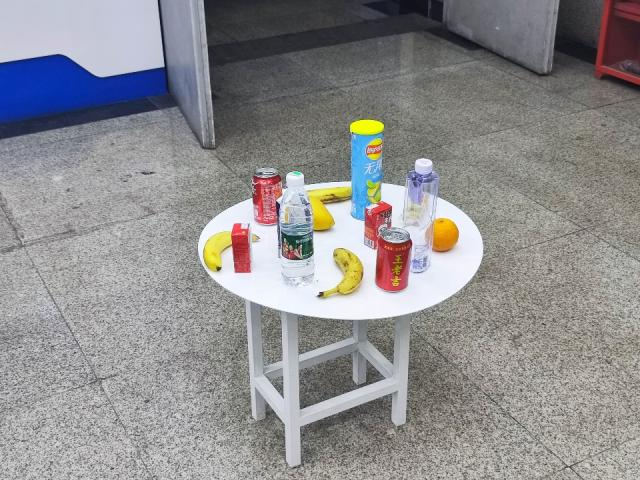Canned_drinks: (375, 227, 413, 293), (251, 166, 282, 224)
bottle: (280, 170, 314, 288), (406, 156, 439, 273)
cylinder: (347, 118, 386, 215)
drink_box: (364, 201, 392, 250), (233, 222, 251, 273)
